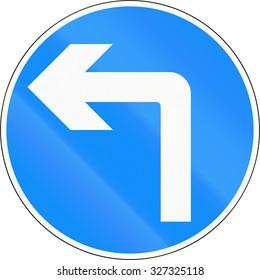Left hand curve: (27, 37, 237, 248)
